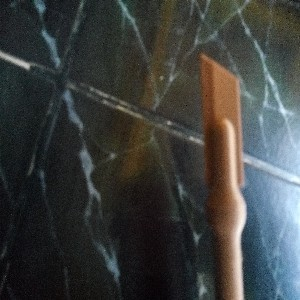cutter: (200, 50, 248, 300)
